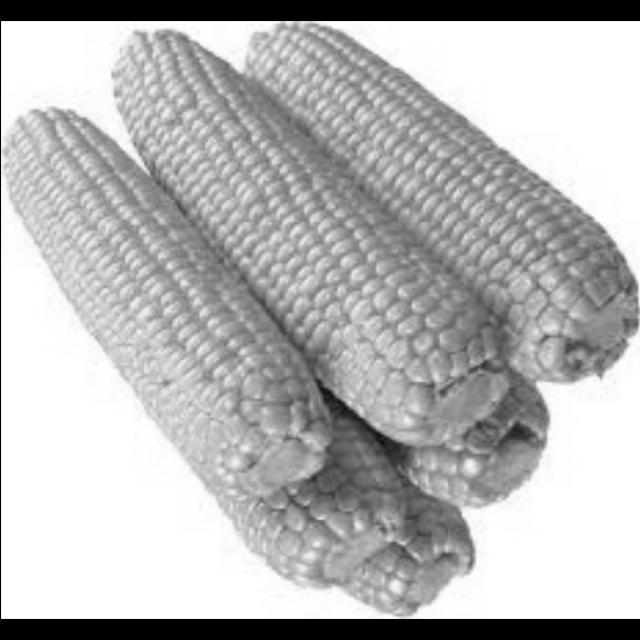ngu coc: (99, 32, 514, 444), (256, 21, 639, 382), (0, 121, 339, 502), (194, 408, 390, 584), (367, 358, 553, 518)
